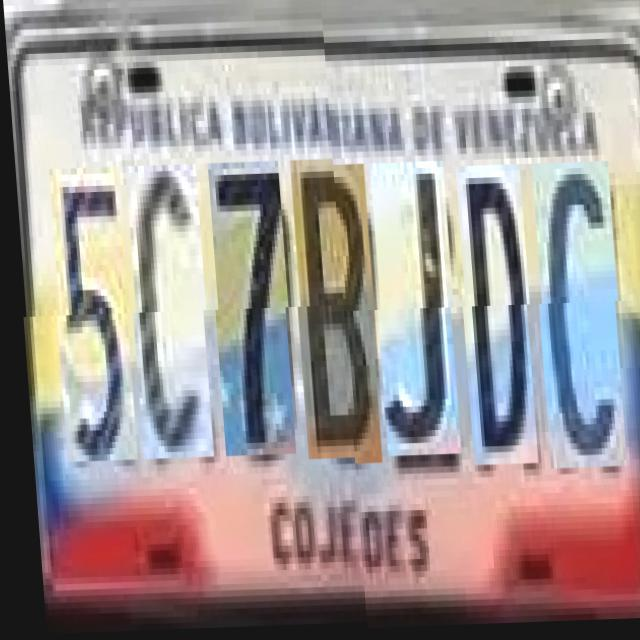5: (47, 174, 134, 468)
7: (205, 169, 292, 464)
B: (288, 166, 378, 468)
C: (528, 165, 622, 472), (124, 171, 210, 466)
D: (453, 168, 534, 468)
J: (367, 164, 457, 459)
